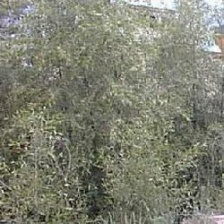neutral: (2, 2, 220, 222)
